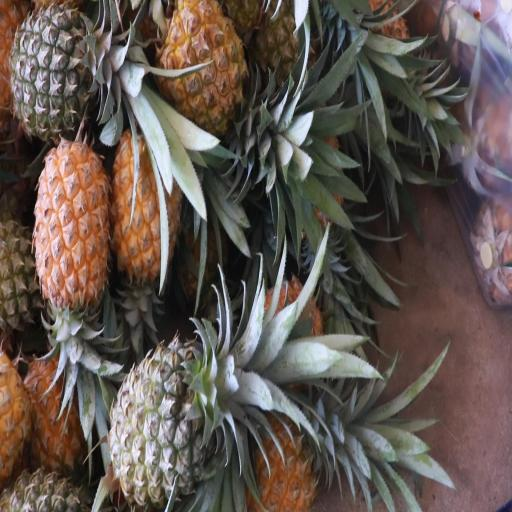Pineapple - v8 v1: (156, 1, 272, 141), (36, 141, 108, 354), (110, 128, 181, 292)
